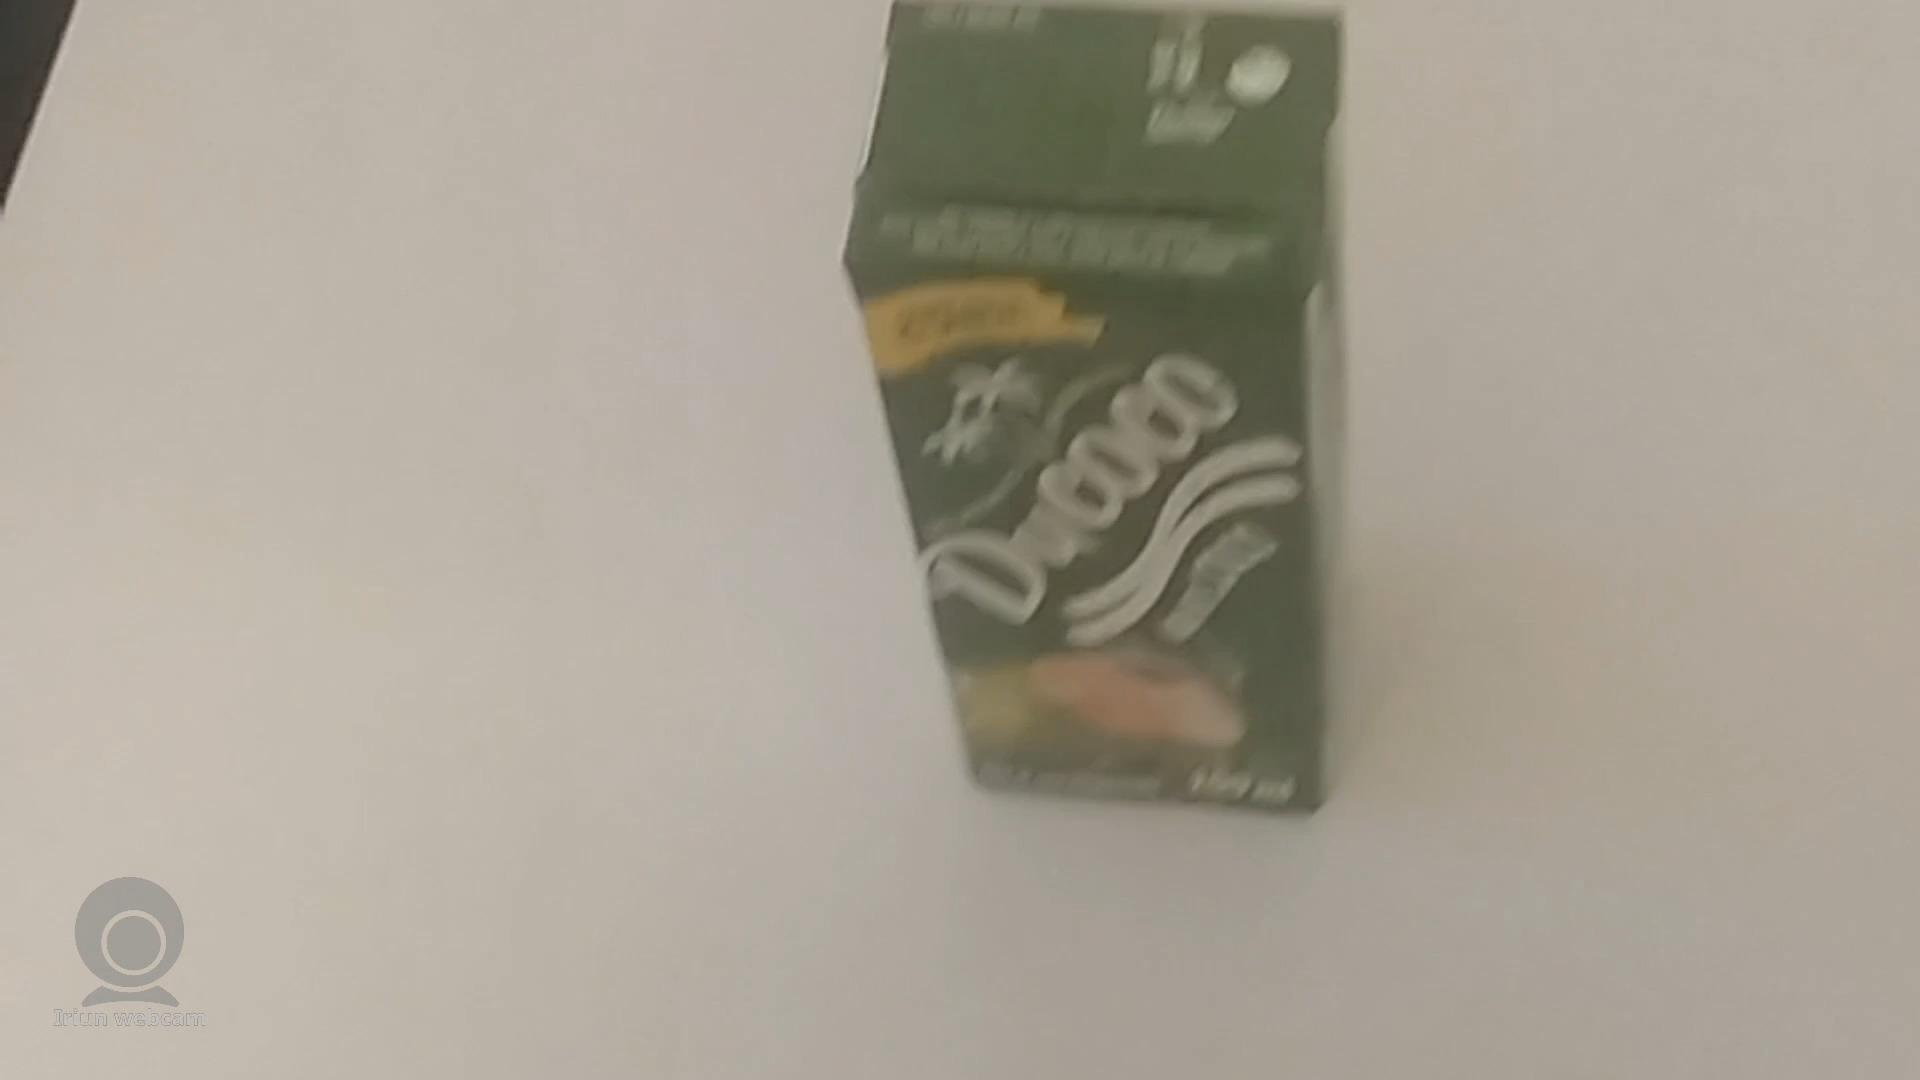coco: (843, 0, 1340, 825)
